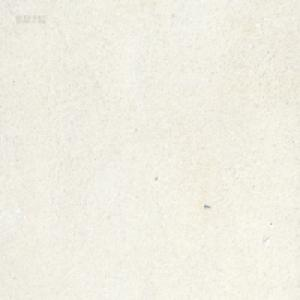Nail: (203, 203, 211, 209)
